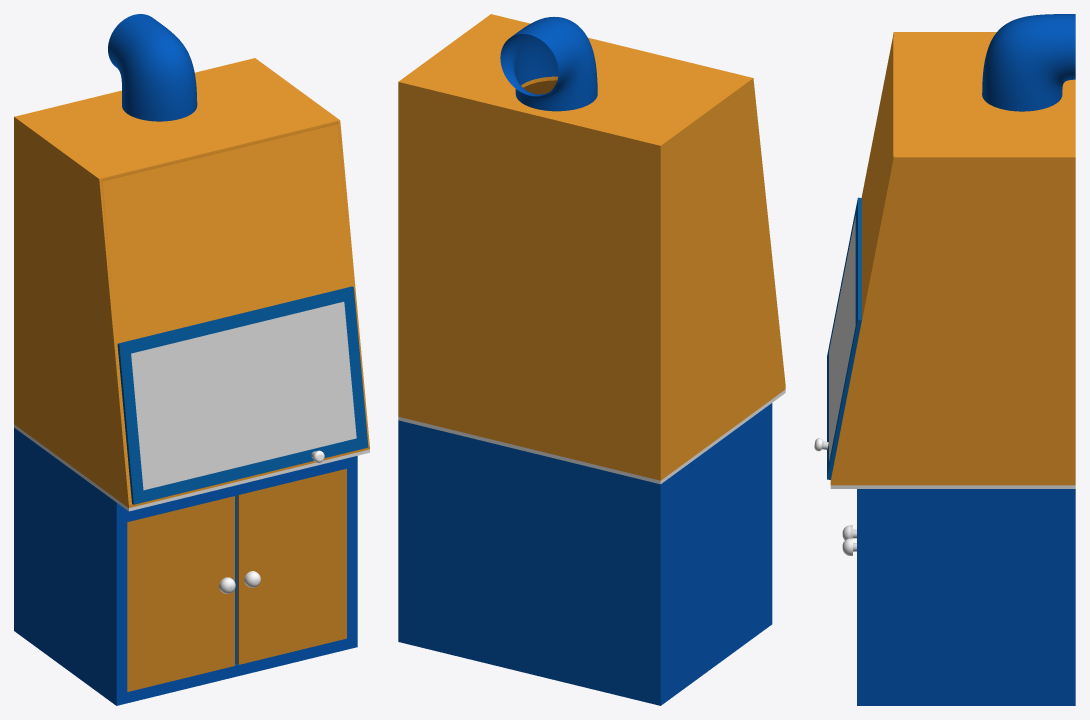
The model's file is hote.gltf.
3 renders of one model, left to right at view 1: azimuth 30°, elevation 25°; view 2: azimuth 150°, elevation 25°; view 3: azimuth 270°, elevation 25°, orthographic. The views are drawn at different scales.
Parts seen in each view (by area): view 1: Object_1106.001, ouvrir0, Object_1102.001, Object_1115.001, ouvrir1, ouvrir2, Object_1136.001, Object_1123.001, Object_1107.001, Object_1113.001, Object_1110.001; view 2: Object_1106.001, Object_1115.001, Object_1136.001, Object_1123.001, Object_1113.001, Object_1110.001, Object_1107.001; view 3: Object_1106.001, Object_1115.001, Object_1136.001, ouvrir0, Object_1102.001, Object_1113.001, Object_1123.001, Object_1110.001, Object_1107.001.
Boxes of the visible parts, x1=… form: Object_1106.001: x1=14, y1=58, x2=369, y2=504; ouvrir0: x1=117, y1=286, x2=368, y2=504; Object_1102.001: x1=103, y1=124, x2=351, y2=340; Object_1115.001: x1=14, y1=439, x2=357, y2=694; ouvrir1: x1=237, y1=468, x2=346, y2=664; ouvrir2: x1=127, y1=496, x2=235, y2=691; Object_1136.001: x1=108, y1=14, x2=197, y2=121; Object_1123.001: x1=14, y1=620, x2=357, y2=705; Object_1107.001: x1=14, y1=424, x2=369, y2=511; Object_1113.001: x1=14, y1=428, x2=127, y2=513; Object_1110.001: x1=14, y1=421, x2=369, y2=507; Object_1106.001: x1=398, y1=14, x2=785, y2=476; Object_1115.001: x1=398, y1=415, x2=772, y2=693; Object_1136.001: x1=500, y1=17, x2=597, y2=111; Object_1123.001: x1=398, y1=612, x2=772, y2=705; Object_1113.001: x1=398, y1=403, x2=772, y2=496; Object_1110.001: x1=398, y1=386, x2=785, y2=480; Object_1107.001: x1=398, y1=389, x2=785, y2=484; Object_1106.001: x1=830, y1=32, x2=1075, y2=481; Object_1115.001: x1=857, y1=501, x2=1075, y2=693; Object_1136.001: x1=982, y1=14, x2=1075, y2=111; ouvrir0: x1=814, y1=197, x2=861, y2=479; Object_1102.001: x1=862, y1=37, x2=893, y2=316; Object_1113.001: x1=857, y1=489, x2=1075, y2=500; Object_1123.001: x1=857, y1=694, x2=1075, y2=705; Object_1110.001: x1=830, y1=481, x2=1075, y2=485; Object_1107.001: x1=830, y1=485, x2=1075, y2=488.
Bounding box in the file's own units: 1.13 × 2.62 × 0.9919.
